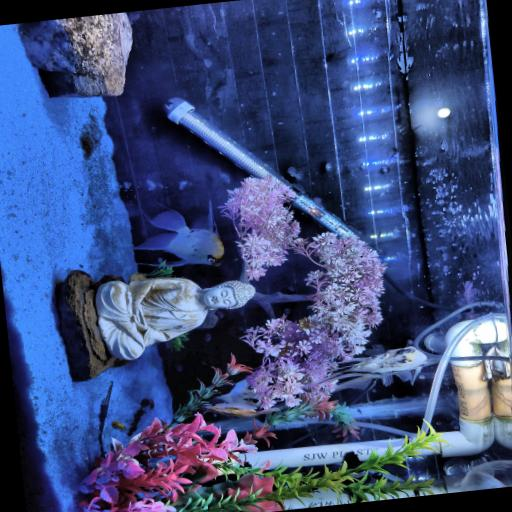Fish: (133, 206, 223, 266), (307, 346, 427, 390), (204, 380, 278, 417), (111, 421, 125, 430)
